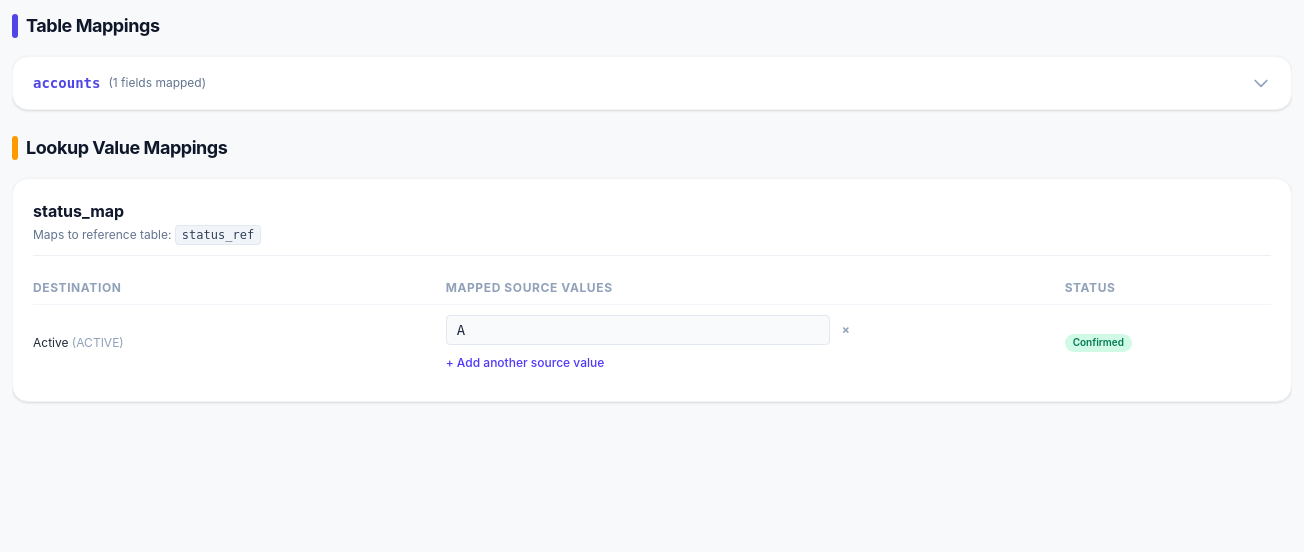
Test: ReviewGrid › handleAddBinding › should show 'Map to another destination' button even for signed-off bindings (add is per-group, not per-row)
// Expand the accounts accordion
Click the button "accounts (1 fields mapped)" at (67,83), box [13, 57, 1291, 109]
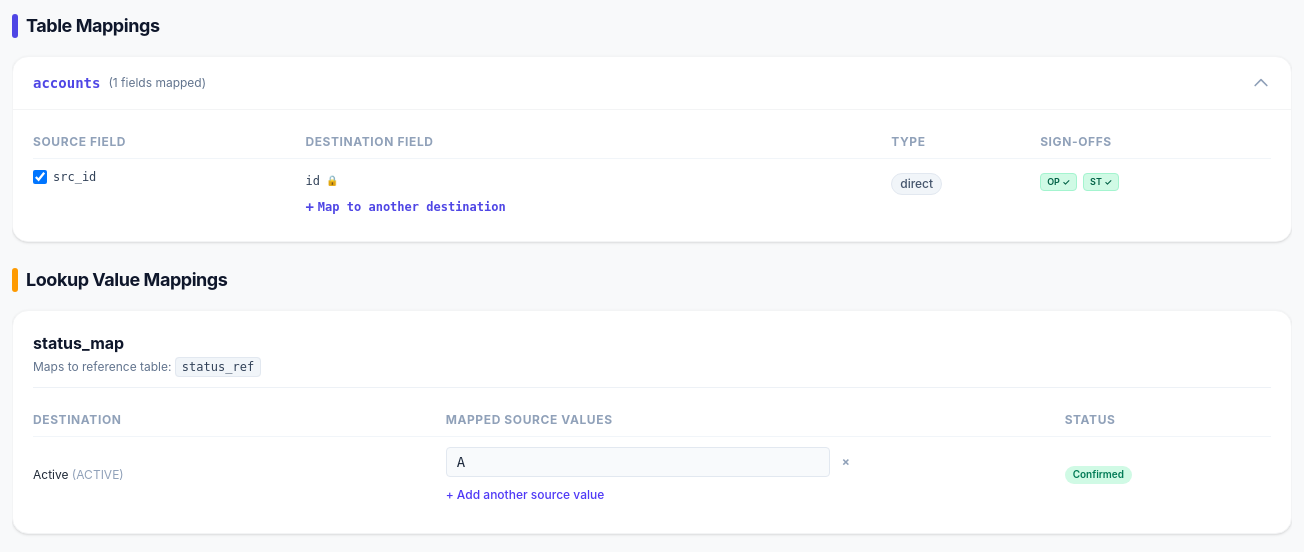
Expected: the number of buttons "+ Map to another destination" is 1, [305, 199, 891, 215]
